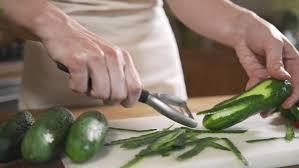Organic: (0, 48, 299, 168)
